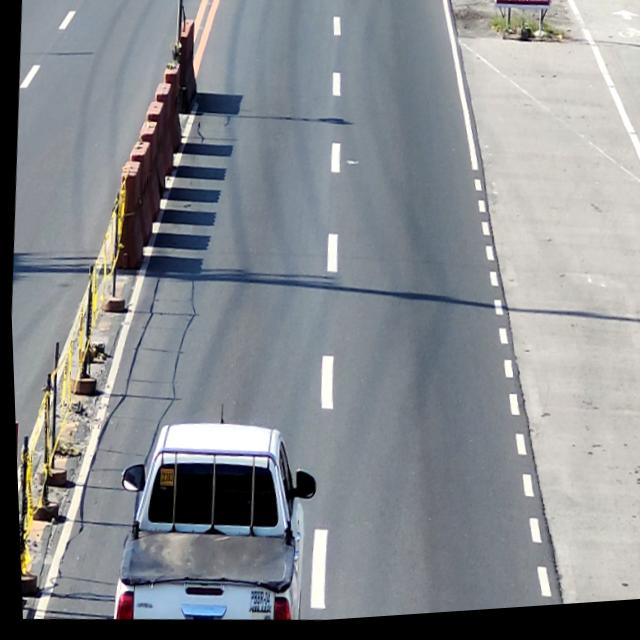Car: (106, 412, 321, 634)
